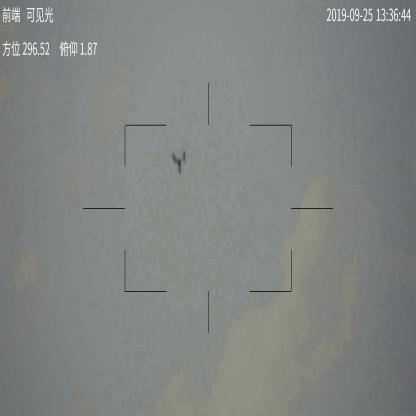uav: (170, 148, 187, 176)
